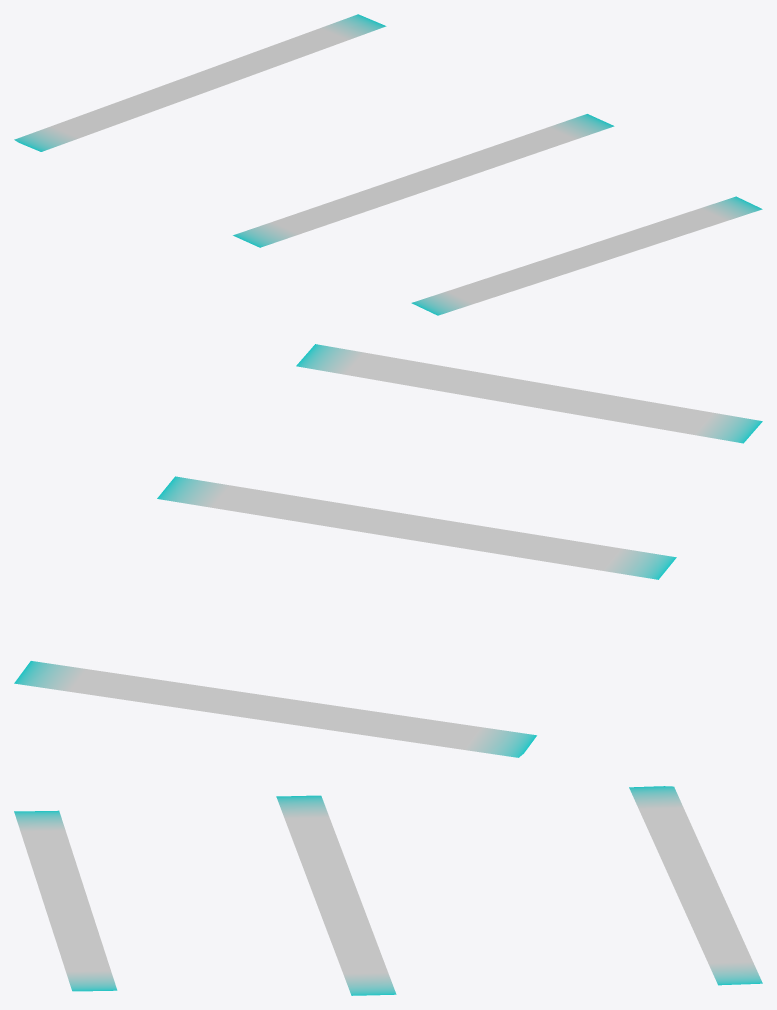
The picture shows the model from 3 angles, top to bottom: view 1: azimuth 30°, elevation 25°; view 2: azimuth 150°, elevation 25°; view 3: azimuth 270°, elevation 25°; orthographic projection. The views are drawn at different scales.
Visible parts, largest first — view 1: SpaceCenter_Long3_GenerateRoad_Asphalt_PCGMesh_Decal_Mesh_x1; view 2: SpaceCenter_Long3_GenerateRoad_Asphalt_PCGMesh_Decal_Mesh_x1; view 3: SpaceCenter_Long3_GenerateRoad_Asphalt_PCGMesh_Decal_Mesh_x1.
Part boxes in pixels (x1=…): SpaceCenter_Long3_GenerateRoad_Asphalt_PCGMesh_Decal_Mesh_x1: x1=14, y1=14, x2=762, y2=315; SpaceCenter_Long3_GenerateRoad_Asphalt_PCGMesh_Decal_Mesh_x1: x1=14, y1=344, x2=762, y2=757; SpaceCenter_Long3_GenerateRoad_Asphalt_PCGMesh_Decal_Mesh_x1: x1=14, y1=786, x2=762, y2=995.
Size of the model in its own units: 591 by 439 by 26.33.
